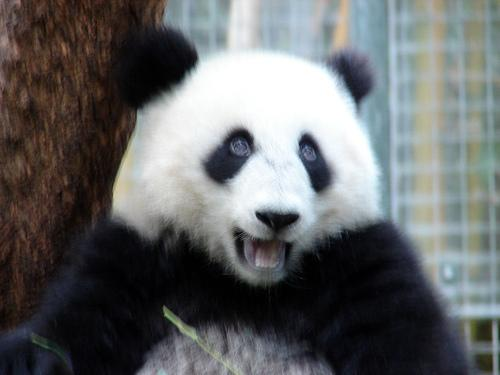panda: (0, 28, 471, 374)
